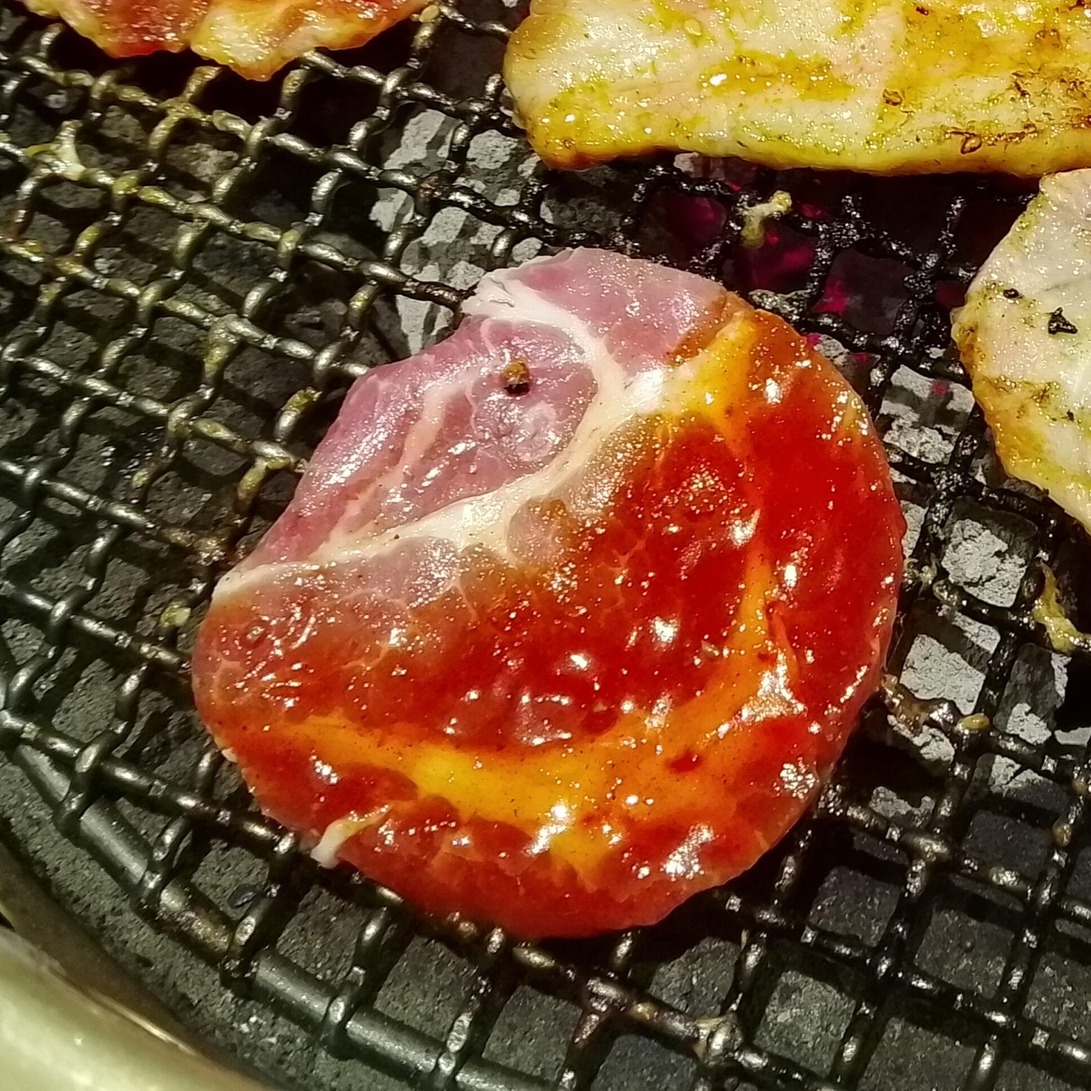Undercooked: (193, 250, 904, 937)
Well-Cooked: (504, 0, 1090, 180), (949, 169, 1090, 547)
